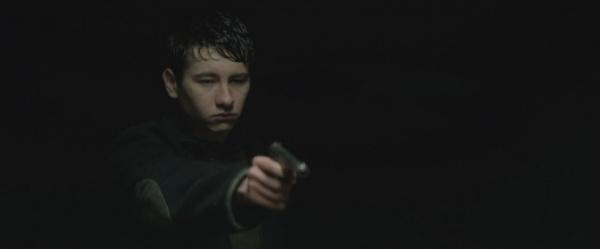Gun: (268, 141, 311, 184)
